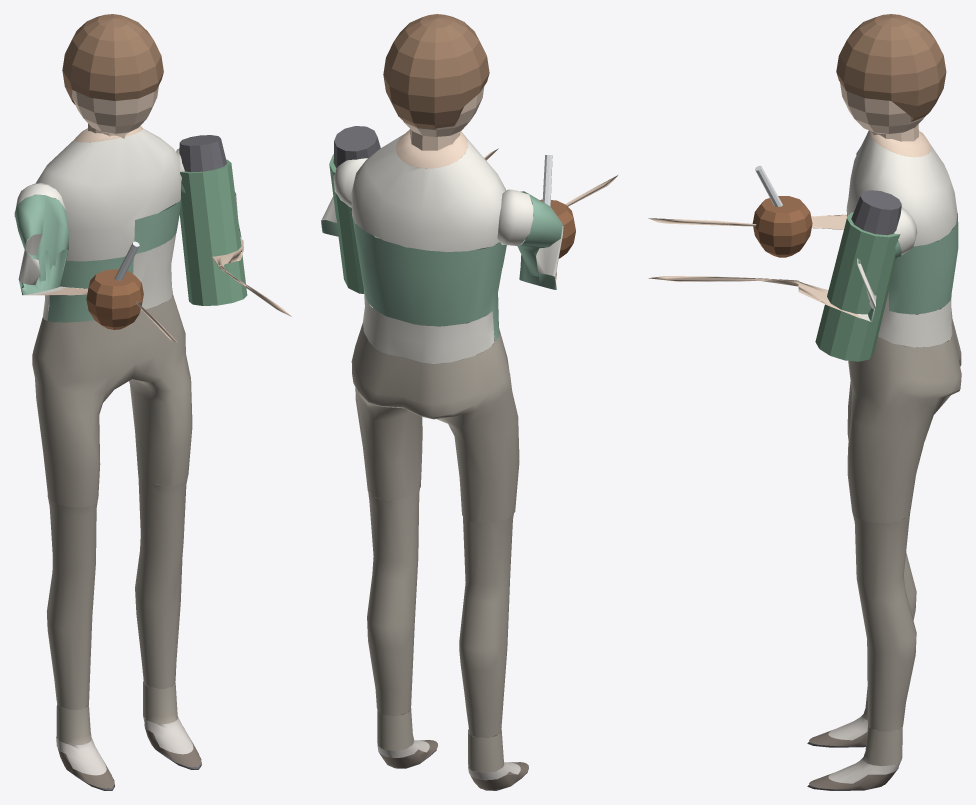
Rendered from rambla_pedestrian_3.glb.
The picture shows the model from 3 angles, left to right: view 1: azimuth 30°, elevation 25°; view 2: azimuth 150°, elevation 25°; view 3: azimuth 270°, elevation 25°; orthographic projection. The views are drawn at different scales.
Visible parts, largest first — view 1: rider_torso; view 2: rider_torso; view 3: rider_torso.
Boxes of the visible parts, bbox=[...] form: rider_torso: bbox=[14, 14, 291, 790]; rider_torso: bbox=[321, 14, 617, 790]; rider_torso: bbox=[648, 14, 961, 790].
Size of the model in its own units: 0.5432 by 1.7 by 0.6507.
